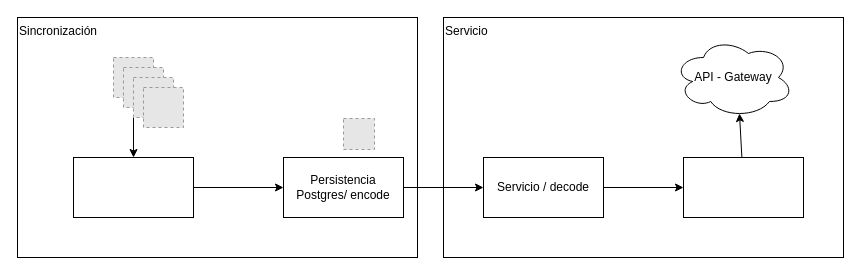
This 861x275 diagram has some shape labels left out. Grey dashed boxes stand in for pictures. The shapes that lost their labels are listed below. From the top down, each one's centre as x and y in pixels, then its label:
At [133,187]: "Descarga Service".
At [743,187]: "Exposición / API - REST".
